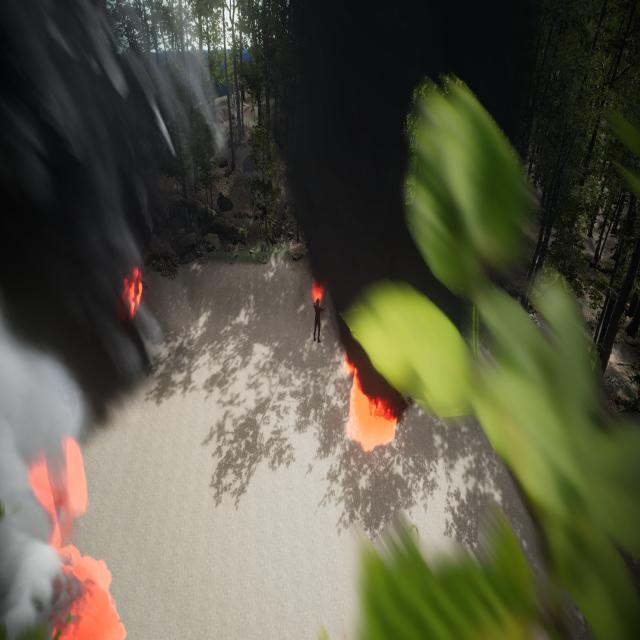Human: (301, 281, 332, 353)
